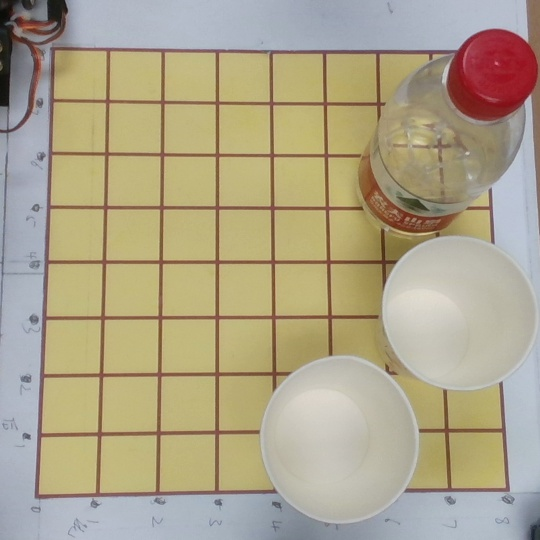bottle: (331, 26, 537, 239)
cup: (233, 353, 419, 529), (360, 234, 540, 394)
